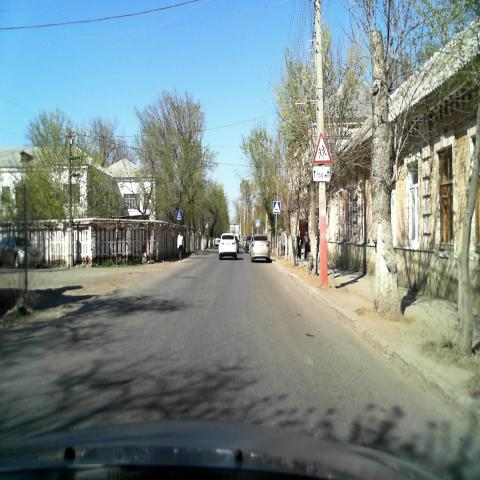8_2_1: (313, 167, 330, 181)
